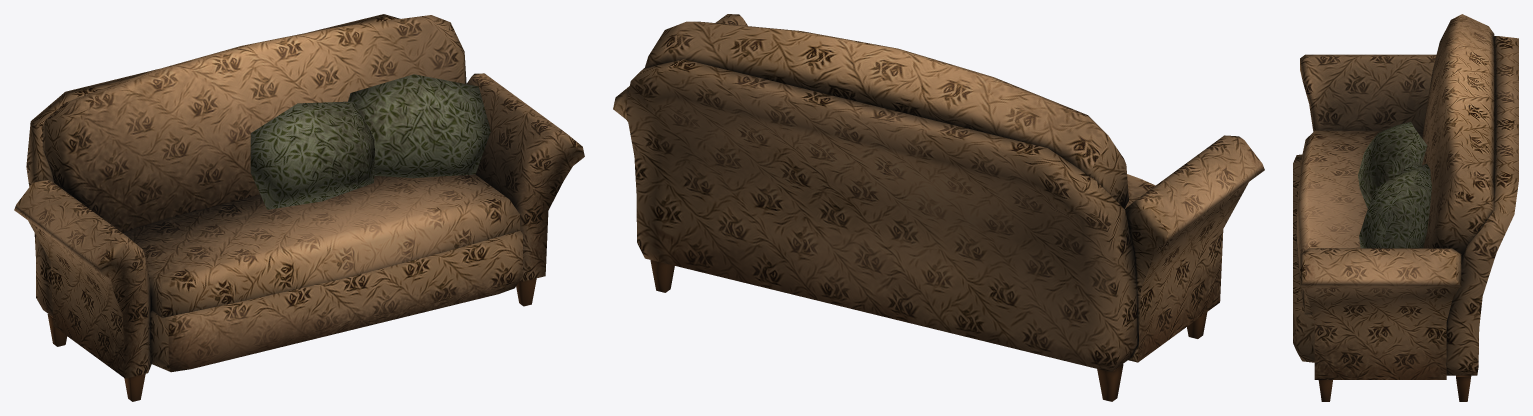
File: couch.fbx
3 renders of one model, left to right at view 1: azimuth 30°, elevation 25°; view 2: azimuth 150°, elevation 25°; view 3: azimuth 270°, elevation 25°, orthographic. The views are drawn at different scales.
Visible parts, largest first — view 1: couch; view 2: couch; view 3: couch.
Part boxes in pixels (bbox=[...]): couch: bbox=[14, 14, 584, 401]; couch: bbox=[613, 14, 1264, 401]; couch: bbox=[1293, 14, 1518, 401].
Size of the model in its own units: 5.41 by 2.73 by 2.39.
1 material, 1 textured.
